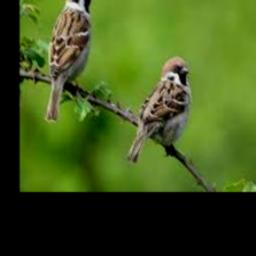Sparrow: (127, 56, 191, 163), (45, 0, 94, 122)
